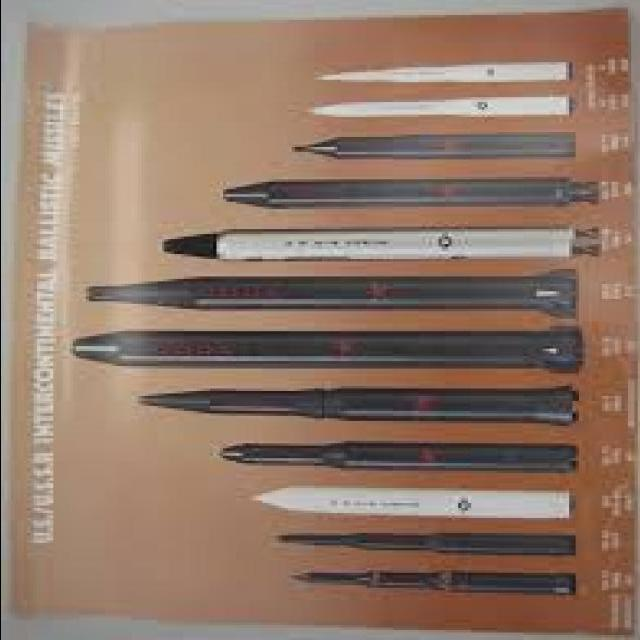Missile: (45, 322, 579, 378), (117, 380, 587, 426), (156, 219, 570, 266), (212, 478, 588, 526), (201, 173, 615, 213), (207, 438, 585, 481), (283, 120, 589, 165), (278, 559, 581, 598), (291, 53, 572, 90)
